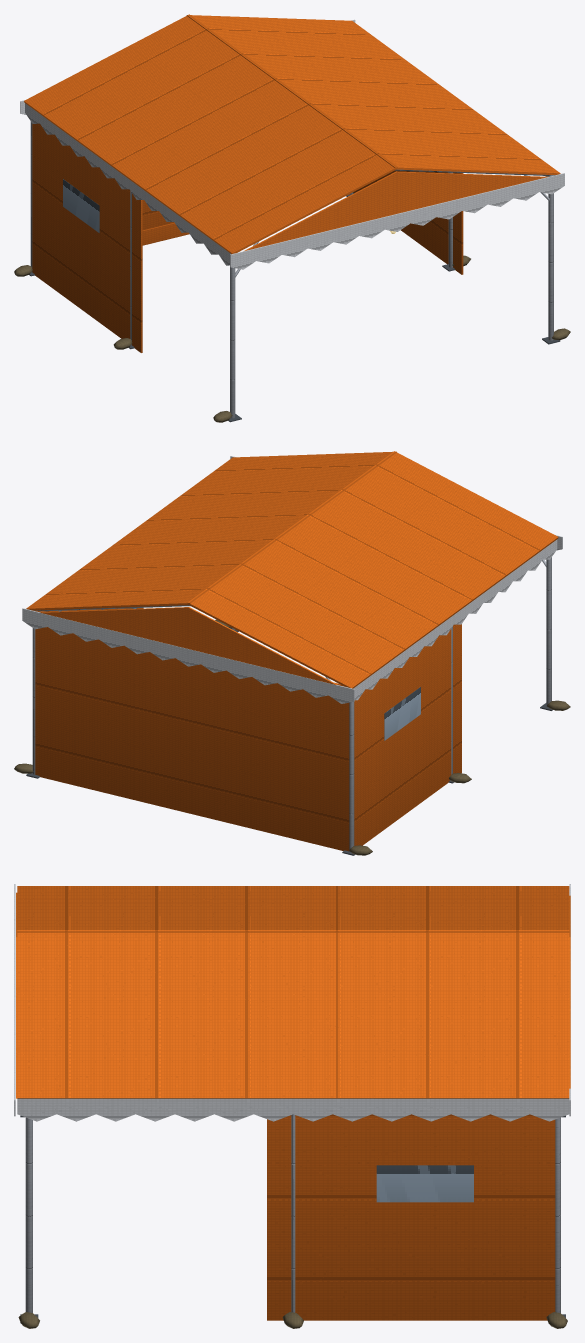
File: tenda_fechada.glb
3 renders of one model, top to bottom at view 1: azimuth 30°, elevation 25°; view 2: azimuth 150°, elevation 25°; view 3: azimuth 270°, elevation 25°, orthographic. The views are drawn at different scales.
Visible parts, largest first — view 1: tenda_fechada, tenda_fechada_metal; view 2: tenda_fechada, tenda_fechada_metal; view 3: tenda_fechada, tenda_fechada_metal.
Boxes of the visible parts, x1,y1,x2,y2 form: tenda_fechada: (14,14,570,422); tenda_fechada_metal: (30,121,553,418); tenda_fechada: (14,451,570,855); tenda_fechada_metal: (32,557,551,851); tenda_fechada: (14,884,570,1328); tenda_fechada_metal: (25,1114,560,1312).
Size of the model in its own units: 6.75 by 3.88 by 6.86.
5 materials, 3 textured.
